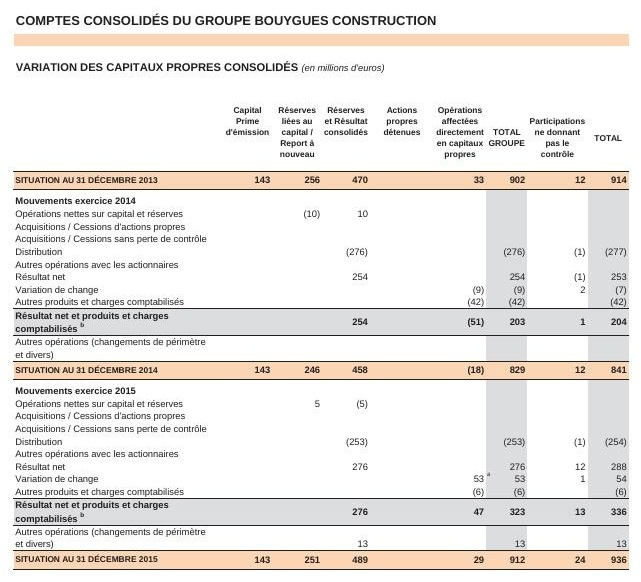table: (0, 0, 641, 582)
